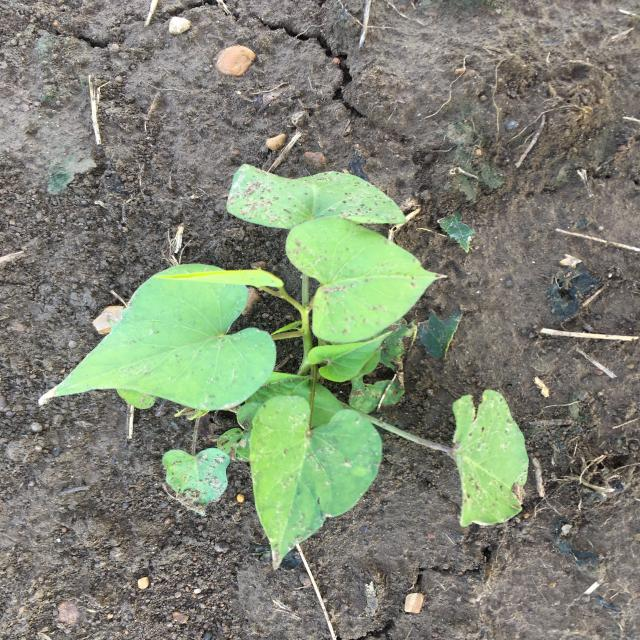MorningGlory: (51, 164, 528, 568)
